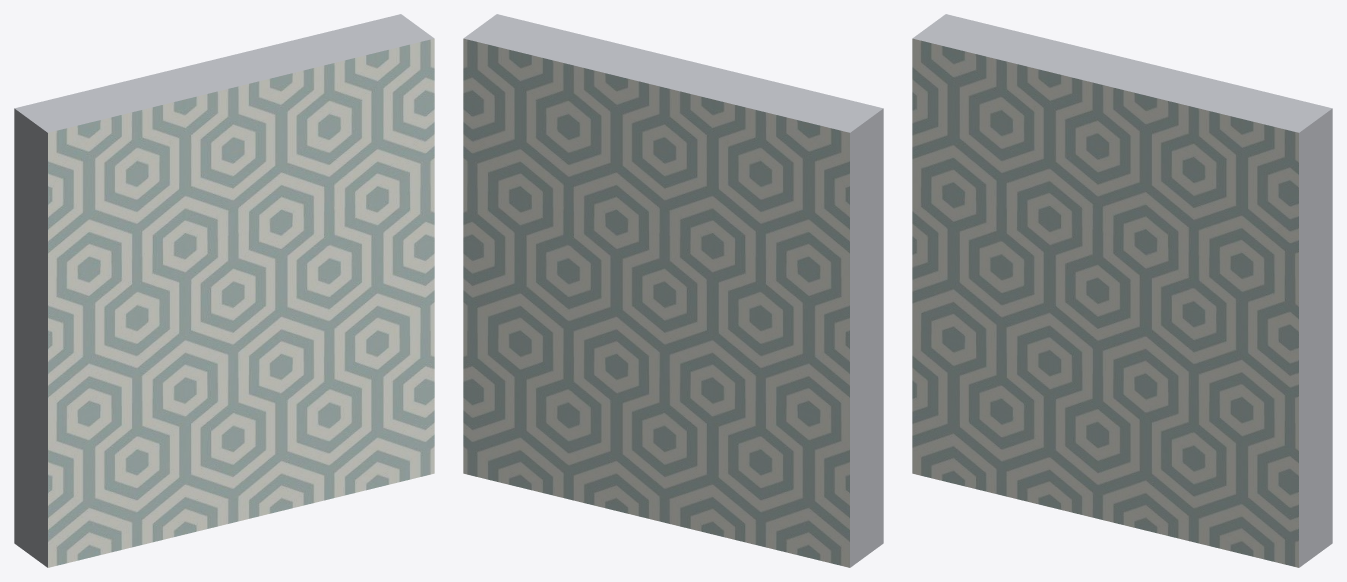
The model's file is tile_wall.gltf.
The picture shows the model from 3 angles, left to right: view 1: azimuth 30°, elevation 25°; view 2: azimuth 150°, elevation 25°; view 3: azimuth 330°, elevation 25°; orthographic projection.
Visible parts, largest first — view 1: tile_wall; view 2: tile_wall; view 3: tile_wall.
Part boxes in pixels (x1=…): tile_wall: x1=14, y1=14, x2=434, y2=567; tile_wall: x1=463, y1=14, x2=883, y2=567; tile_wall: x1=912, y1=14, x2=1332, y2=567.
Size of the model in its own units: 2 by 2.15 by 0.3.
Materials: 2 (1 with a texture image).
